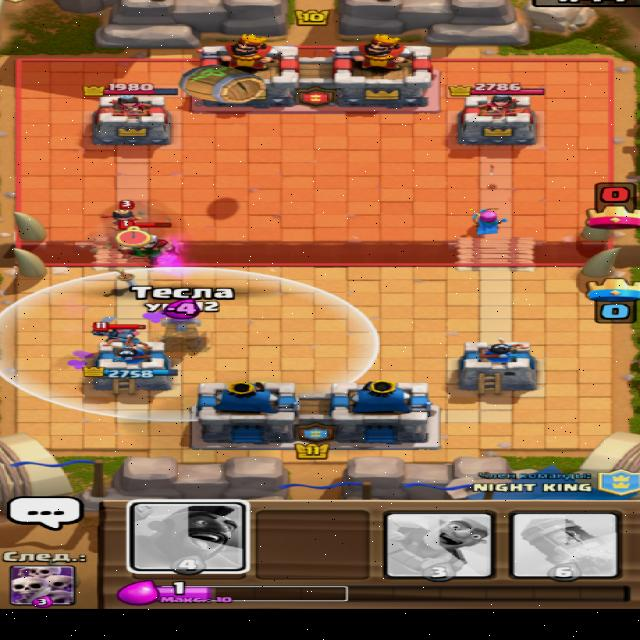Enemy-GoblinBarrel: (178, 63, 266, 104)
Enemy-MagicArcher: (112, 219, 180, 266)
Enemy-MiniPEKKA: (88, 315, 144, 342)
Enemy-Princess: (98, 199, 139, 231)
Player-Archer: (465, 206, 508, 236)
